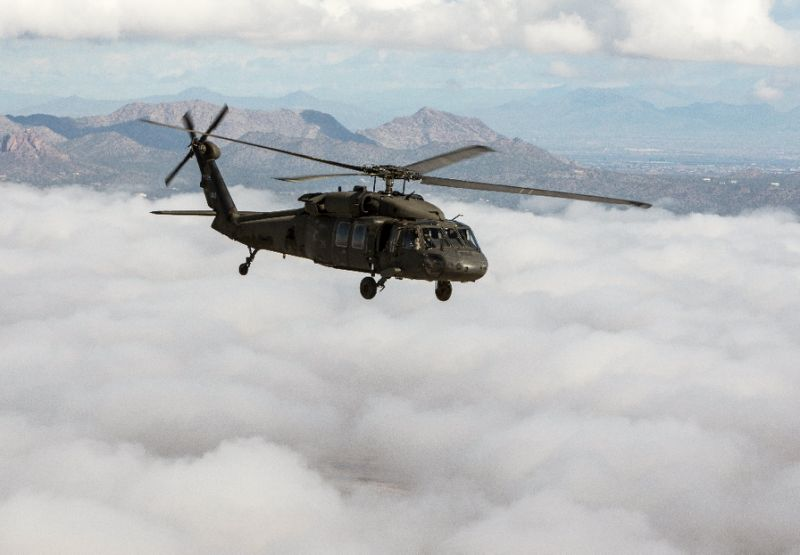MilitaryHelicopter: (152, 108, 532, 314)
